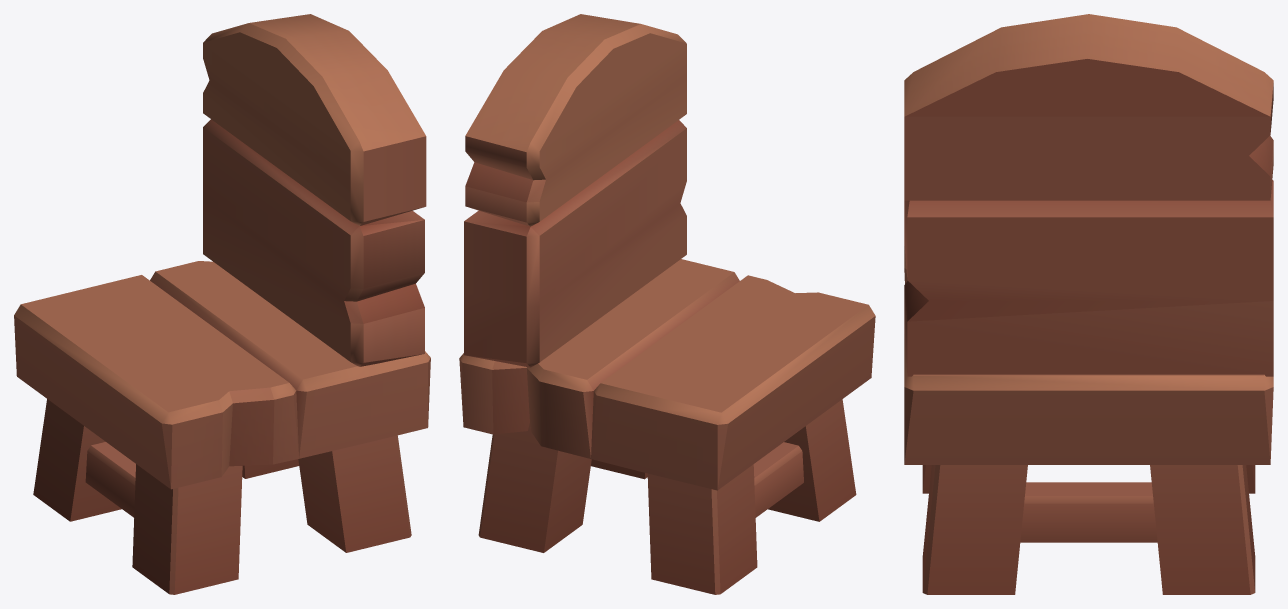
Rendered from chair.gltf.
3 renders of one model, left to right at view 1: azimuth 30°, elevation 25°; view 2: azimuth 150°, elevation 25°; view 3: azimuth 270°, elevation 25°, orthographic. The views are drawn at different scales.
Parts seen in each view (by area): view 1: chair; view 2: chair; view 3: chair.
Boxes of the visible parts, bbox=[...] form: chair: bbox=[14, 14, 430, 594]; chair: bbox=[459, 14, 875, 594]; chair: bbox=[904, 14, 1273, 594].
Size of the model in its own units: 0.75 by 1.23 by 0.75.
Materials: 1 (1 with a texture image).
